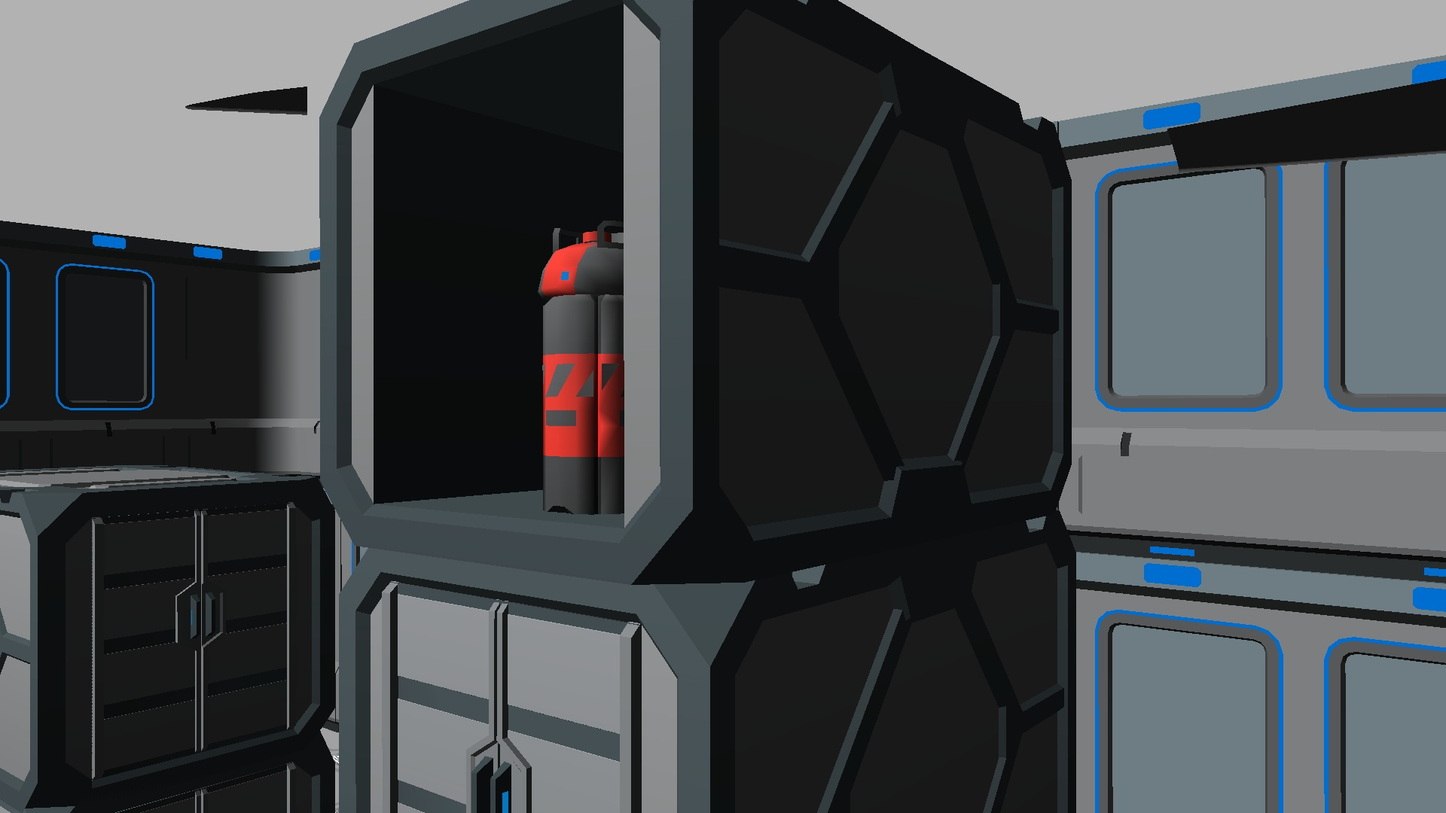red barrel: (537, 220, 624, 515)
